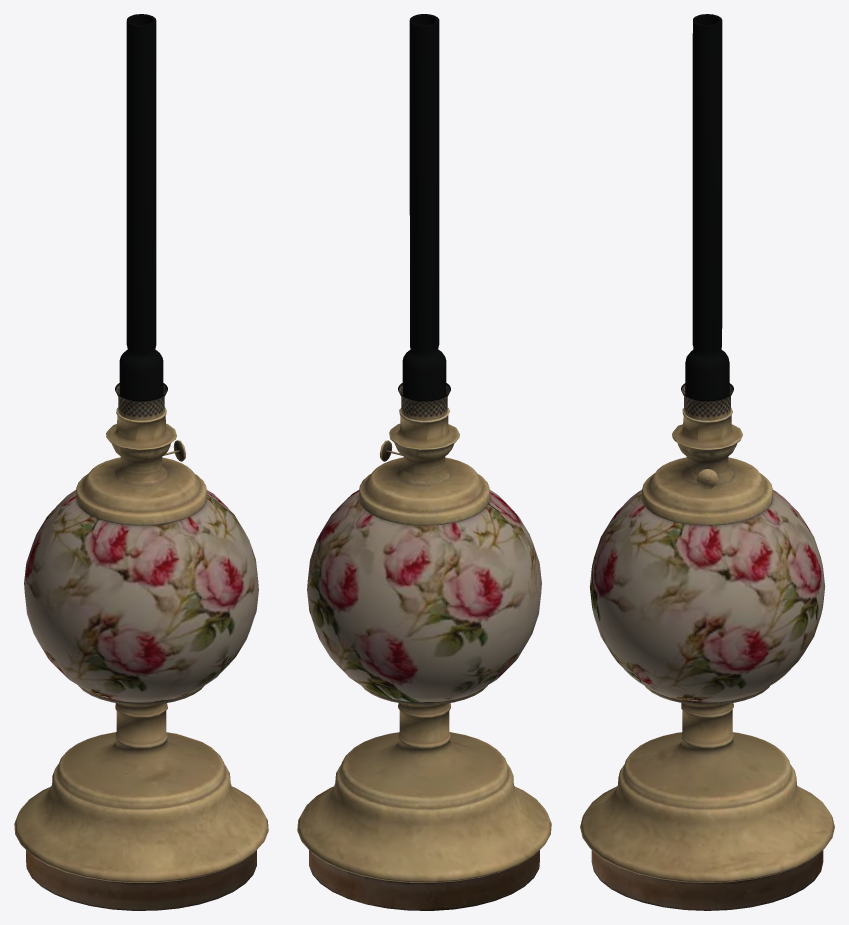
The model's file is oil-lamp.glb.
3 views of the same model, side by side, from view 1: azimuth 30°, elevation 25°; view 2: azimuth 150°, elevation 25°; view 3: azimuth 270°, elevation 25° (orthographic).
Visible parts, largest first — view 1: vintage_oil_lamp, vintage_oil_lamp_glass; view 2: vintage_oil_lamp, vintage_oil_lamp_glass; view 3: vintage_oil_lamp, vintage_oil_lamp_glass.
Part boxes in pixels (x1,y1,x2,y2): vintage_oil_lamp: (14, 407, 268, 910); vintage_oil_lamp_glass: (115, 14, 167, 420); vintage_oil_lamp: (297, 408, 551, 910); vintage_oil_lamp_glass: (398, 14, 450, 420); vintage_oil_lamp: (580, 407, 834, 910); vintage_oil_lamp_glass: (681, 14, 733, 420).
Bounding box in the file's own units: 0.22 × 0.8016 × 0.22.
Materials: 3 (3 with a texture image).
